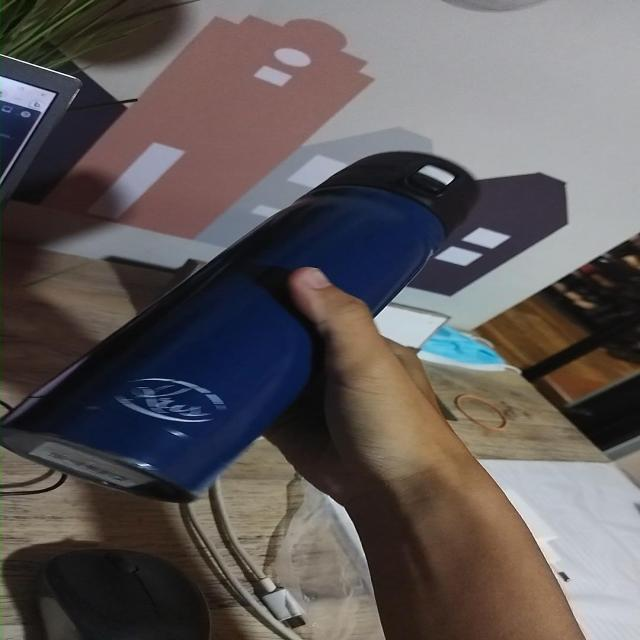bottle: (0, 148, 479, 505)
